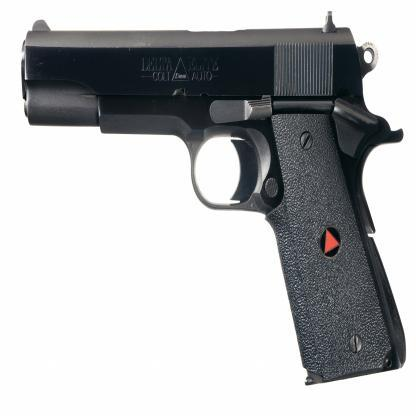gun: (7, 3, 406, 389)
